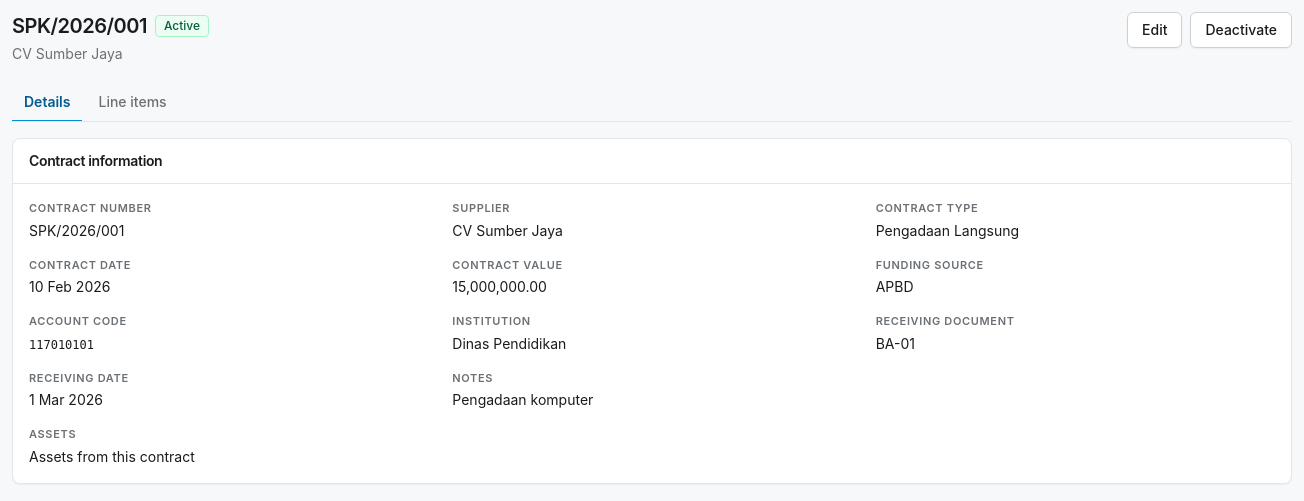
Test: ContractDetailPage › shows the line items with the server’s derived total (DEC-039)
Expected: the heading "SPK/2026/001" is shown, [12, 12, 147, 40]
Step 1. Click the tab "Line items" → (133, 103), box [86, 84, 179, 122]
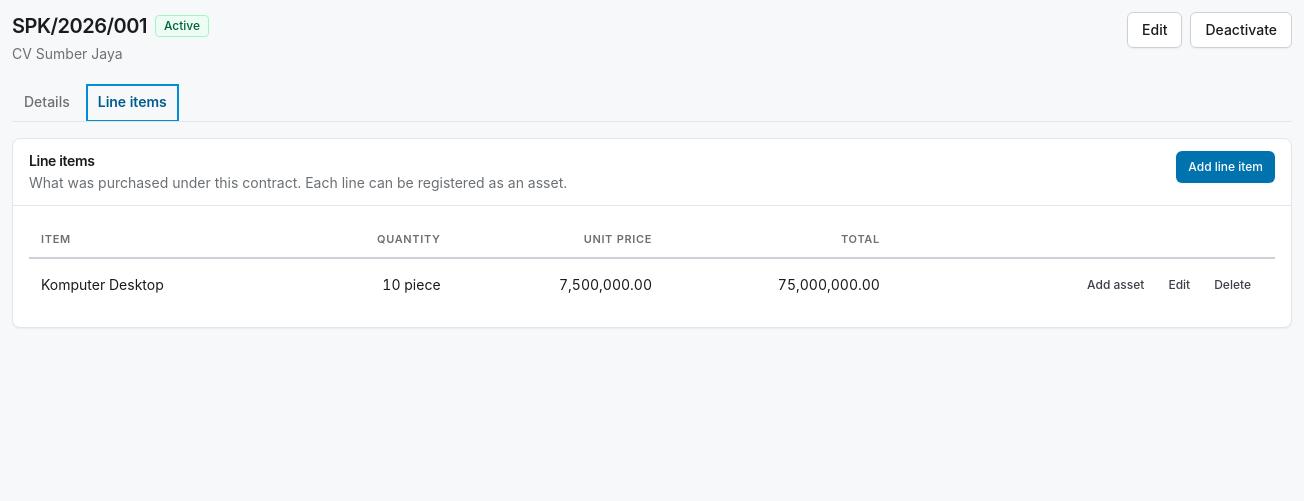
Result: the button "Komputer Desktop" is shown at [41, 275, 164, 295]
Result: the text "7,500,000.00" is shown at [453, 258, 664, 311]
Result: the text "75,000,000.00" is shown at [664, 258, 892, 311]
